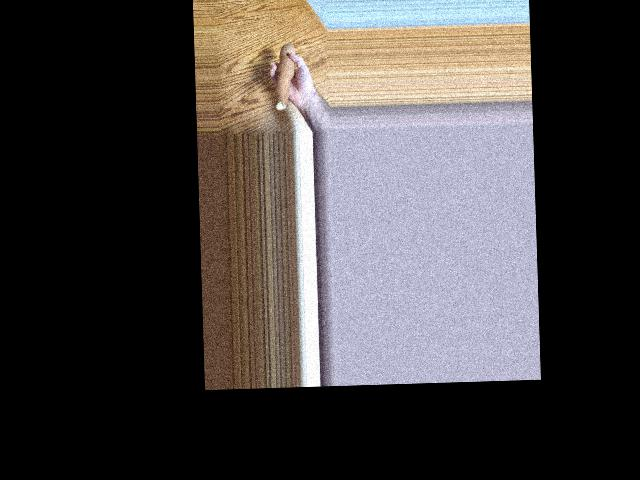sweet_potato: (275, 44, 297, 108)
